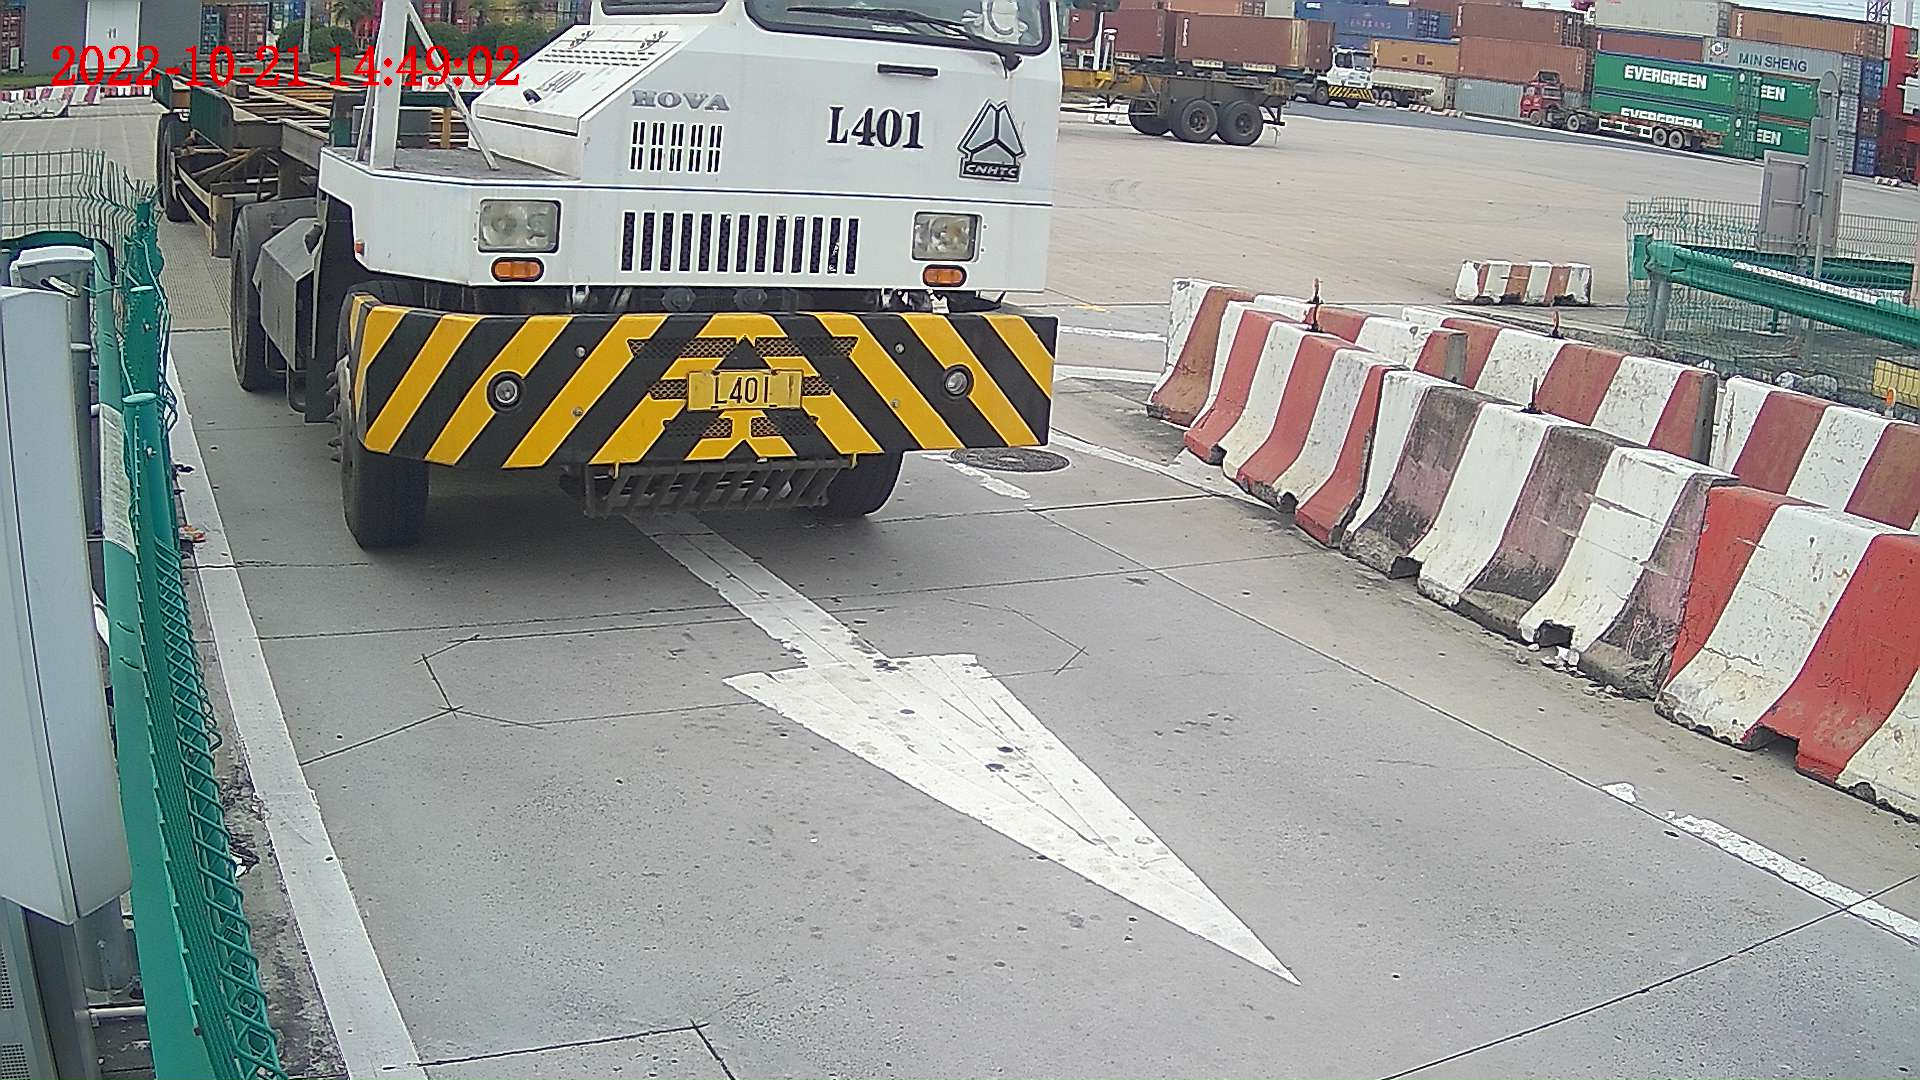head: (332, 1, 1066, 543)
plate: (692, 367, 800, 406)
